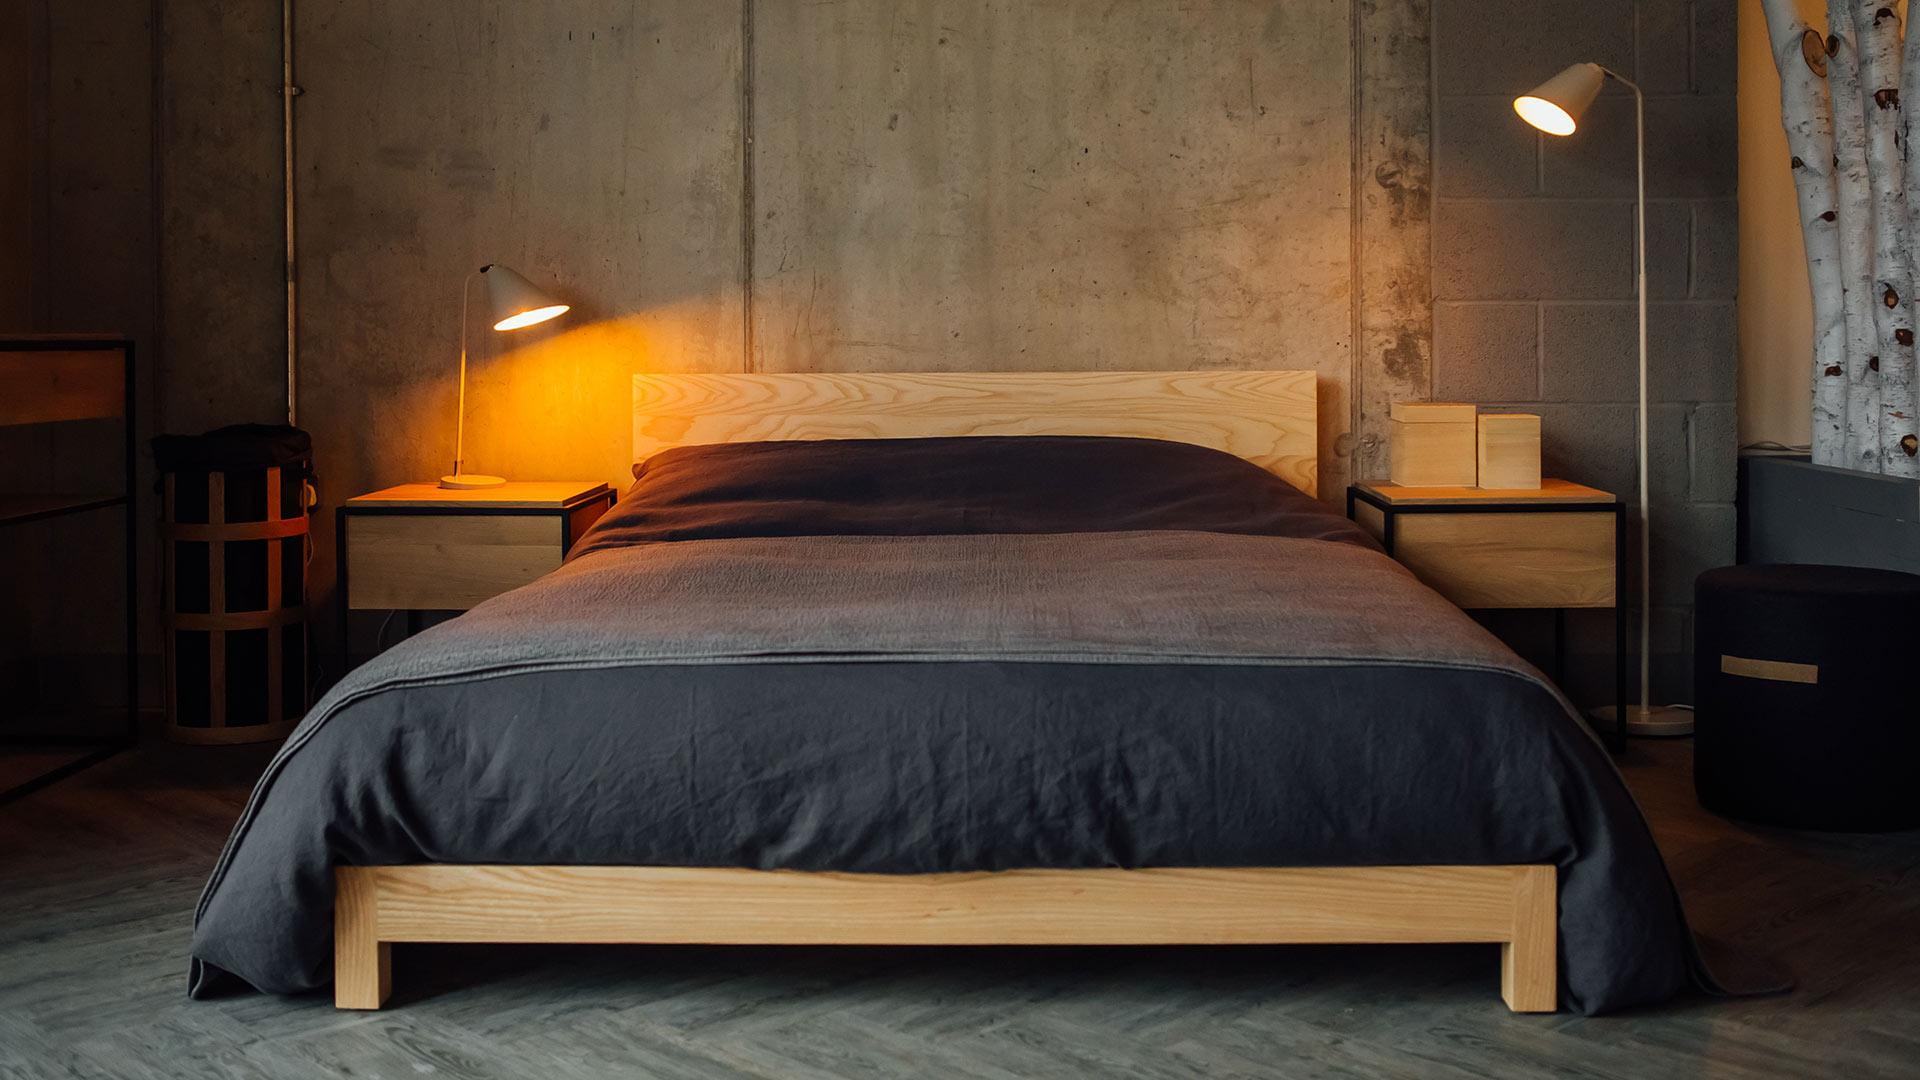bed: (410, 305, 1530, 880)
